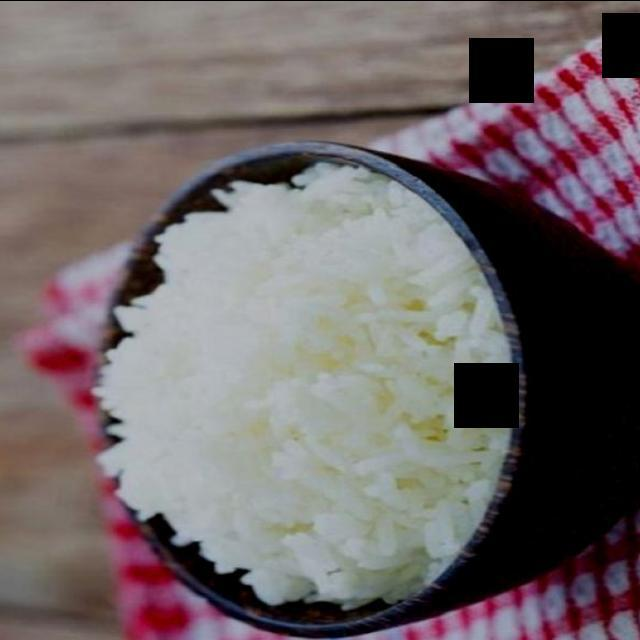rice: (93, 163, 514, 609)
